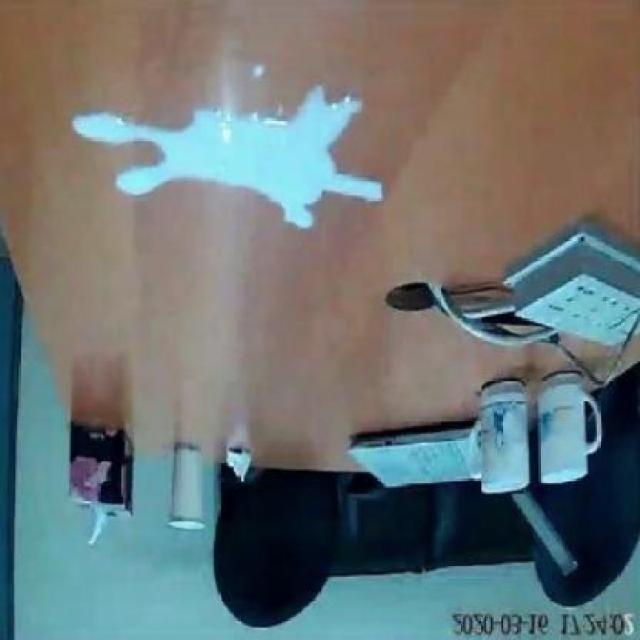spillage: (72, 83, 385, 228)
